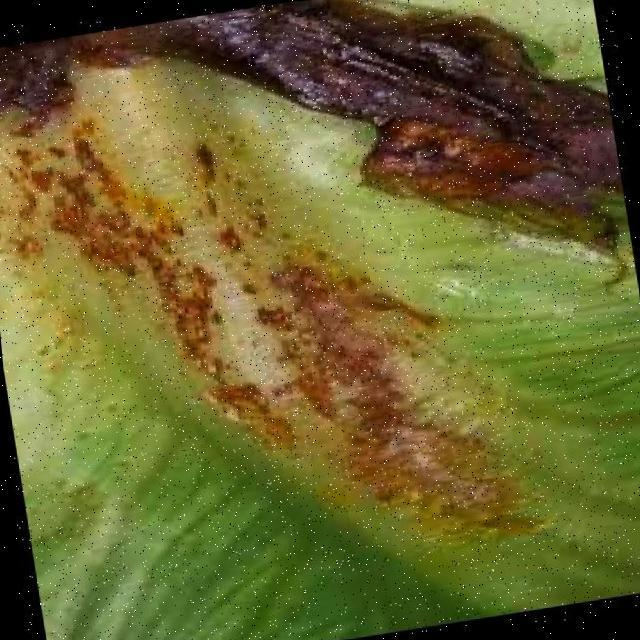Septoria_Blight: (0, 0, 632, 629)
